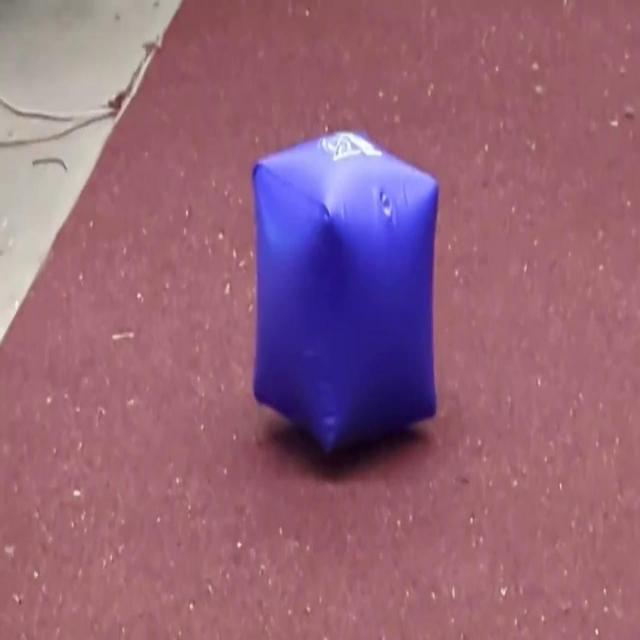frc_cube: (249, 126, 441, 464)
